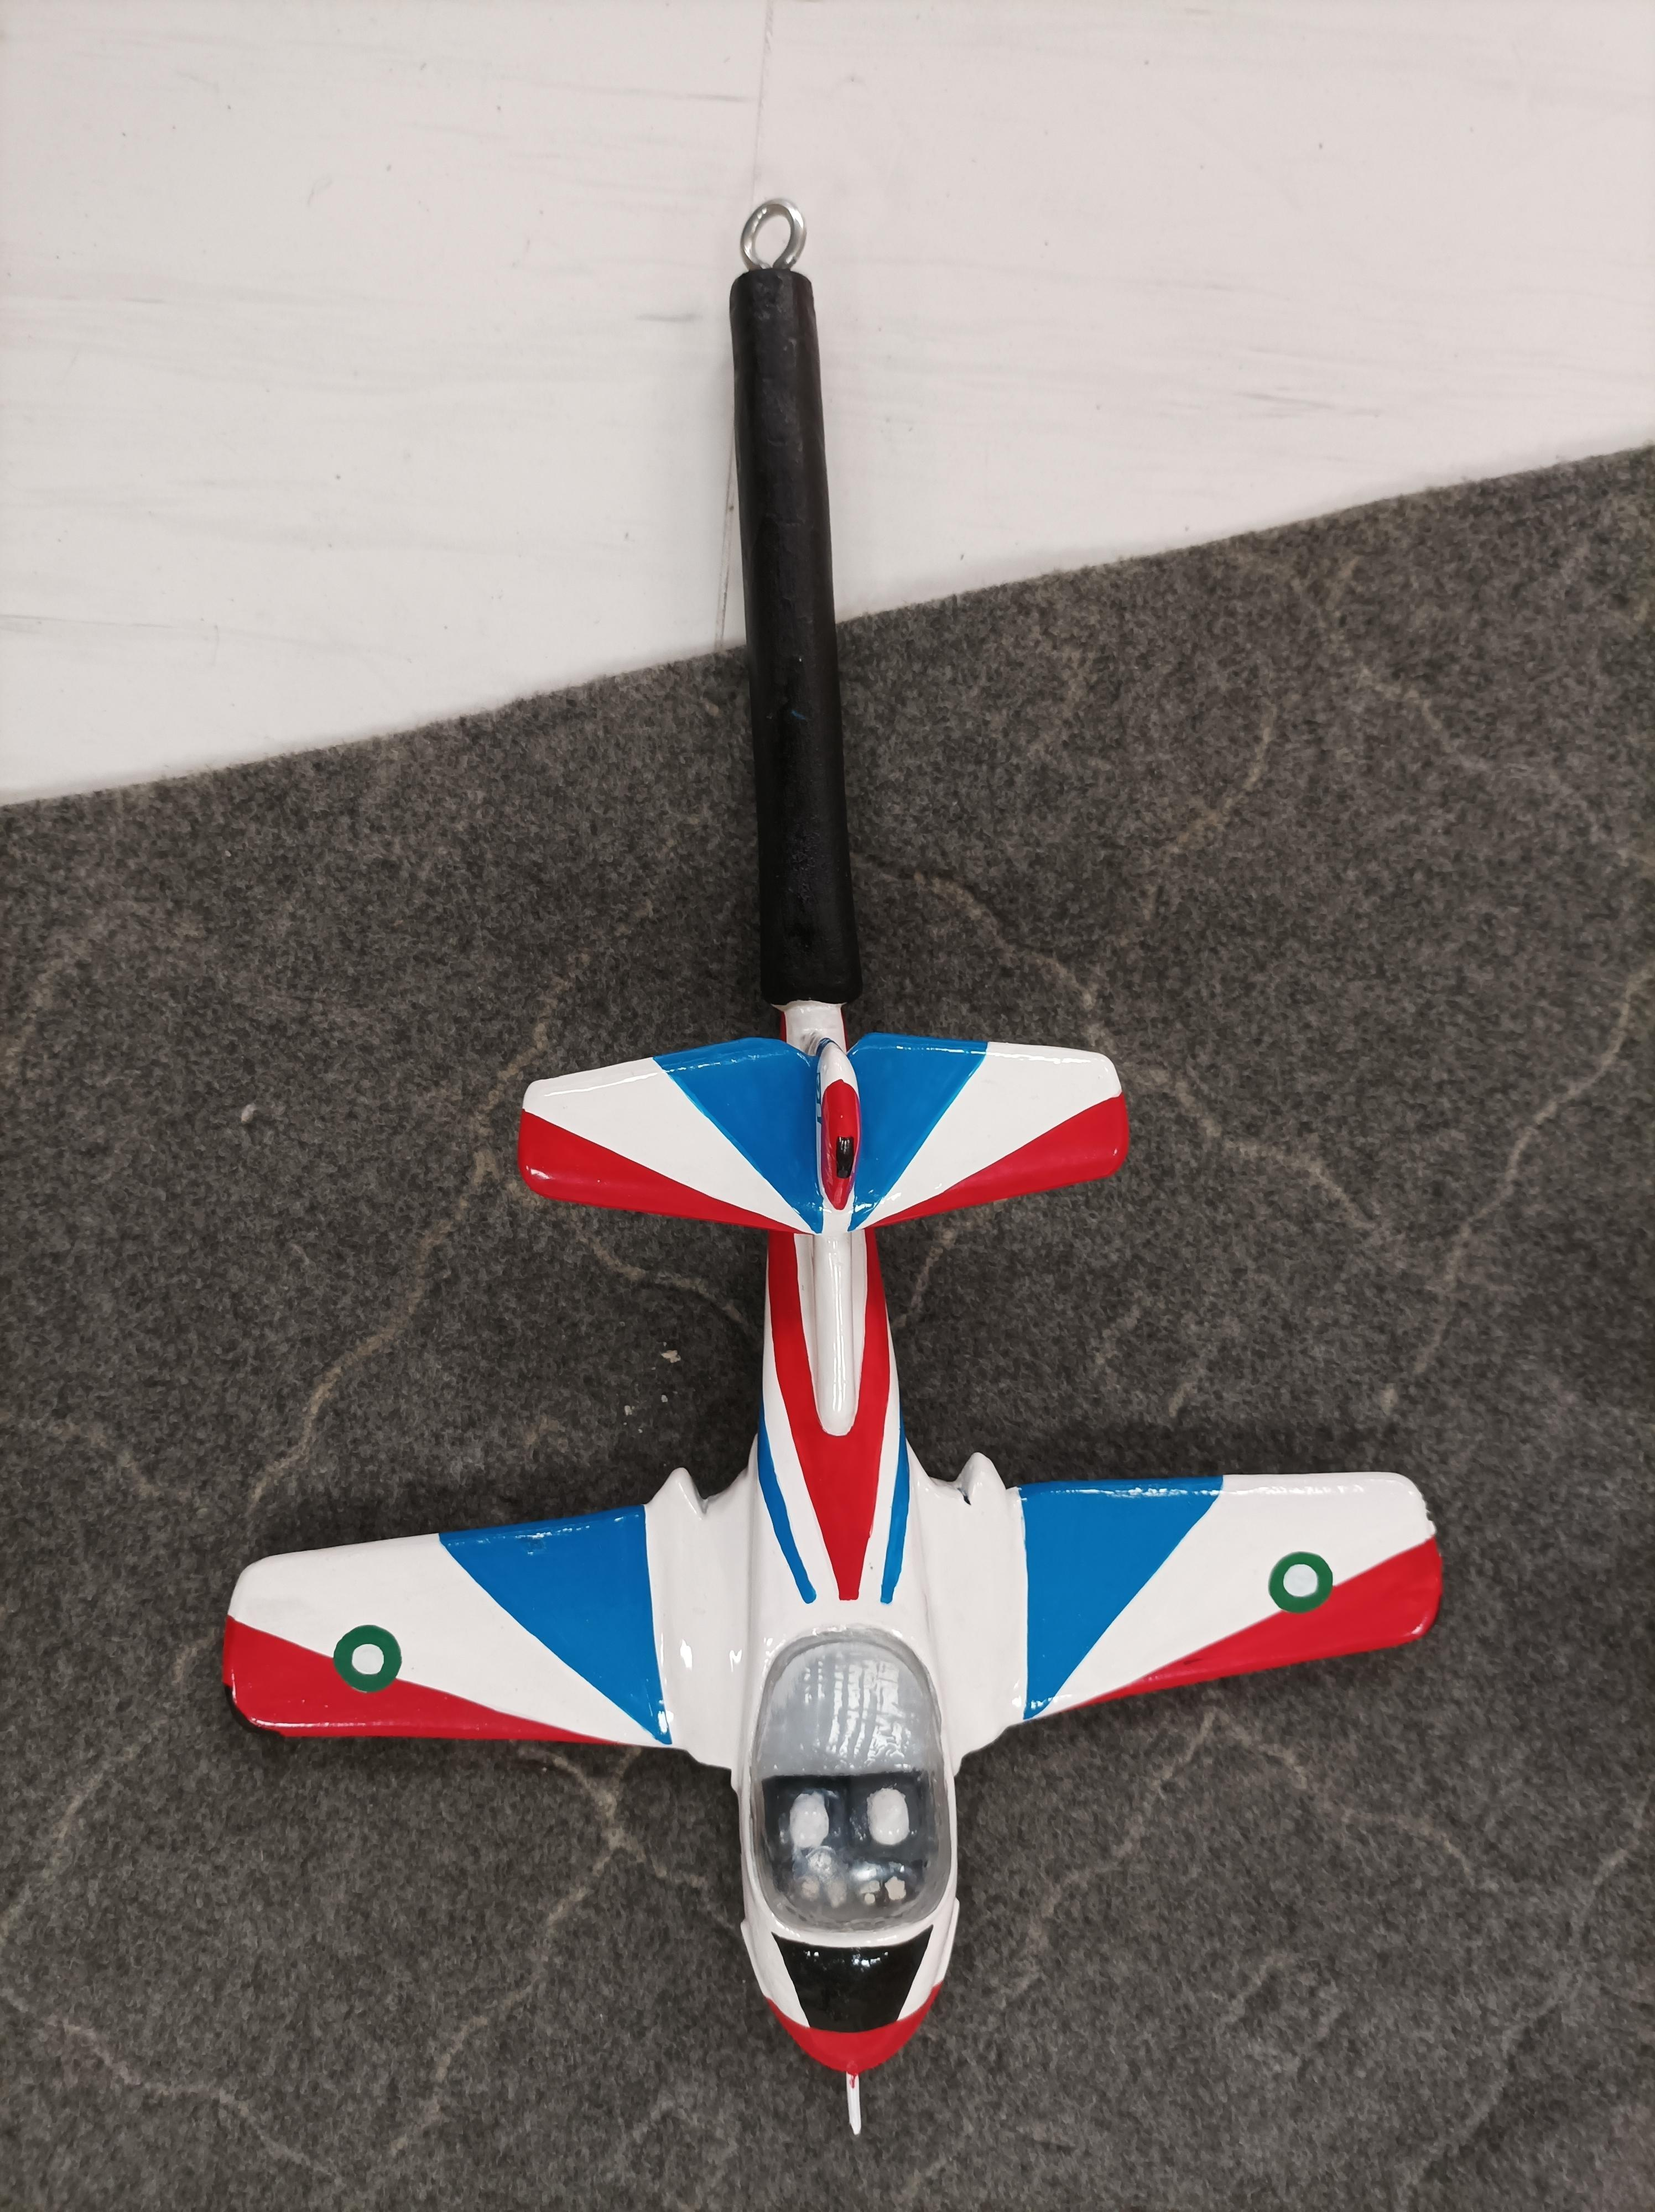Airplane: (202, 1018, 1455, 2082)
